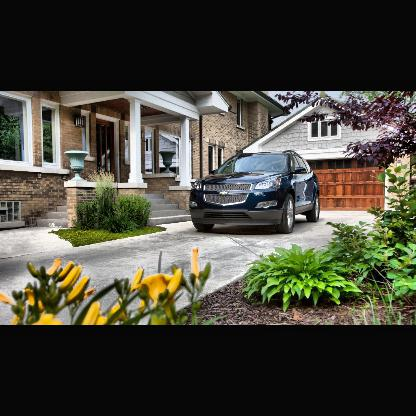Chevrolet Traverse SUV 2012: (191, 150, 321, 234)
